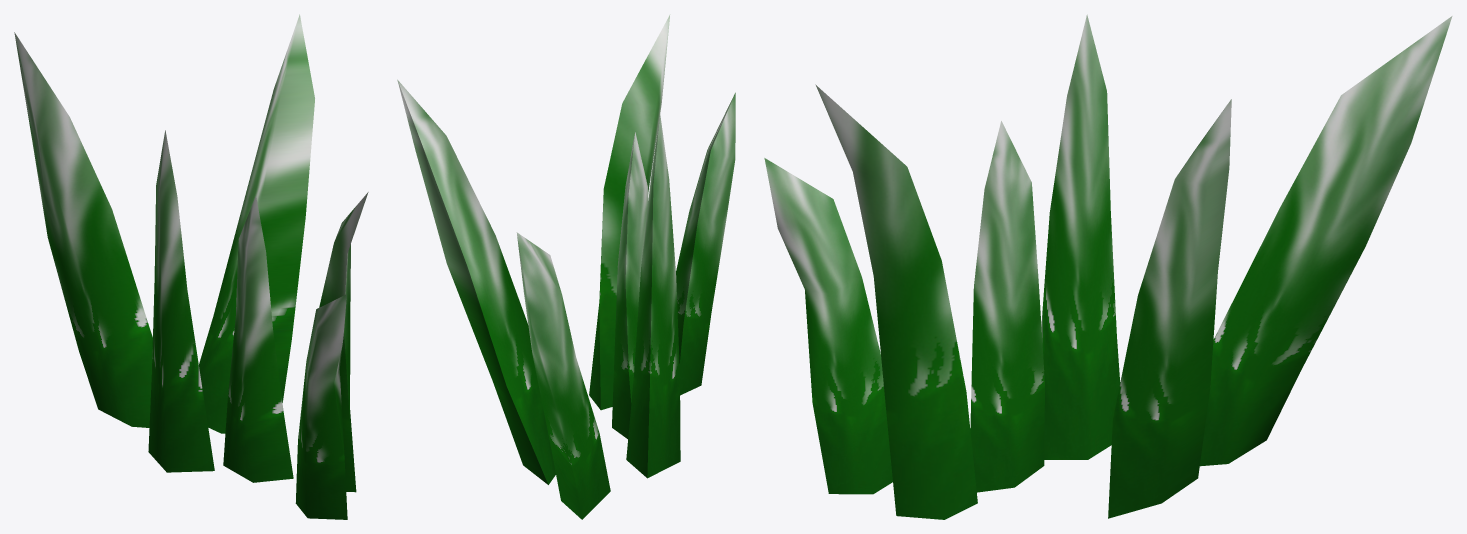
The model's file is Grass_Snow.fbx.
The picture shows the model from 3 angles, left to right: view 1: azimuth 30°, elevation 25°; view 2: azimuth 150°, elevation 25°; view 3: azimuth 270°, elevation 25°; orthographic projection. The views are drawn at different scales.
Parts seen in each view (by area): view 1: Grass_01; view 2: Grass_01; view 3: Grass_01.
Boxes of the visible parts, x1,y1,x2,y2 form: Grass_01: [14, 14, 368, 519]; Grass_01: [397, 14, 735, 519]; Grass_01: [764, 14, 1452, 519].
Bounding box in the file's own units: 1828 × 3063 × 4115.
Materials: 1 (1 with a texture image).
